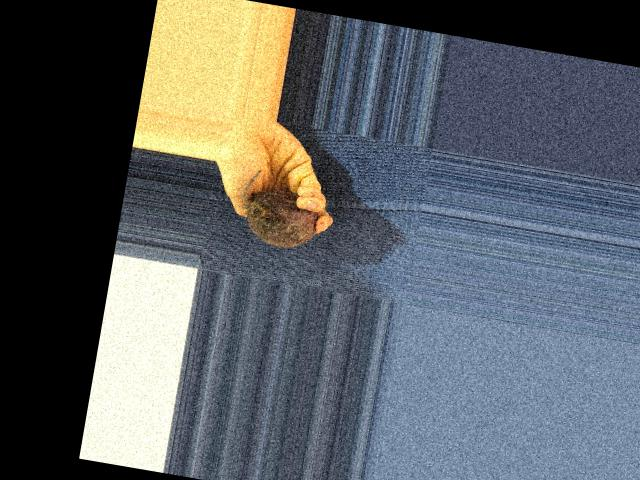beet: (235, 166, 325, 251)
